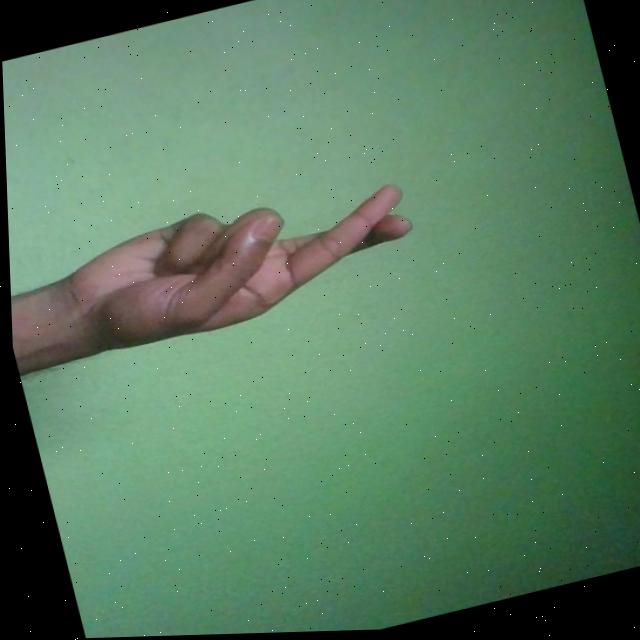Good Luck: (42, 165, 424, 363)
